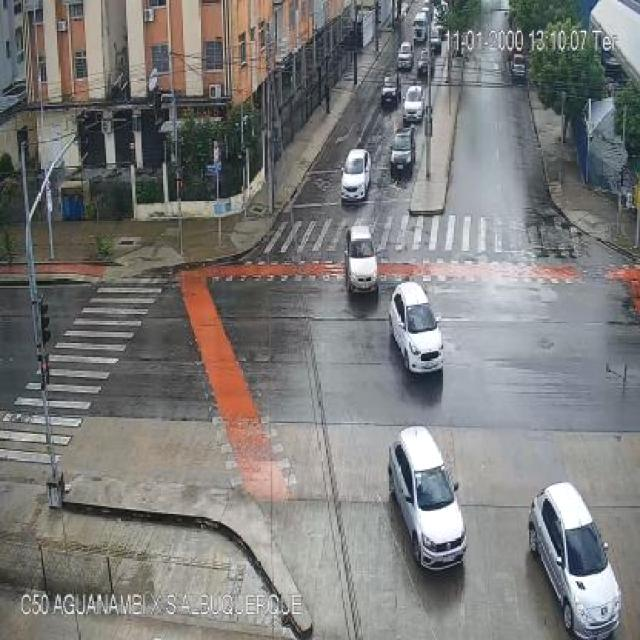Car: (528, 483, 620, 635), (389, 428, 466, 570), (387, 281, 444, 373), (344, 226, 378, 294), (341, 147, 372, 201), (390, 126, 416, 172), (403, 86, 425, 122), (381, 75, 401, 105), (396, 42, 414, 70), (510, 54, 528, 82), (429, 24, 443, 53), (417, 48, 431, 75)
